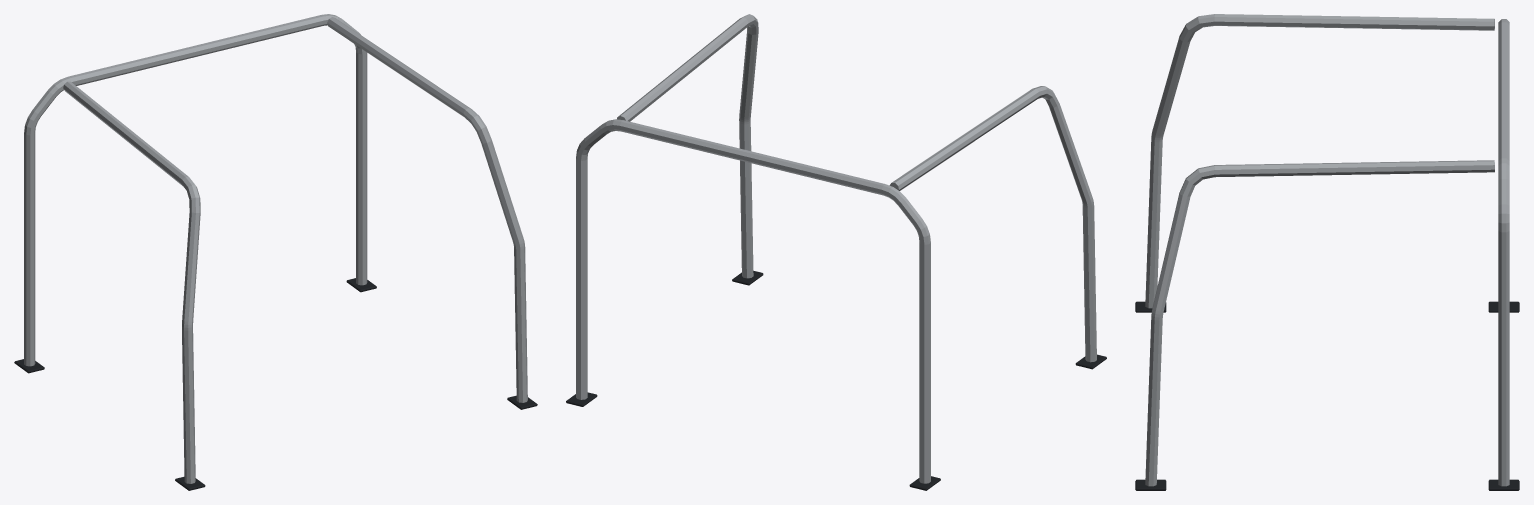
File: vortex_r.glb
3 renders of one model, left to right at view 1: azimuth 30°, elevation 25°; view 2: azimuth 150°, elevation 25°; view 3: azimuth 270°, elevation 25°, orthographic. The views are drawn at different scales.
Parts seen in each view (by area): view 1: model; view 2: model; view 3: model.
Part boxes in pixels (x1=…): model: x1=14, y1=14, x2=537, y2=490; model: x1=566, y1=14, x2=1106, y2=490; model: x1=1135, y1=14, x2=1519, y2=490.
Bounding box in the file's own units: 1.43 × 1.1 × 1.24.
2 materials, 1 textured.
